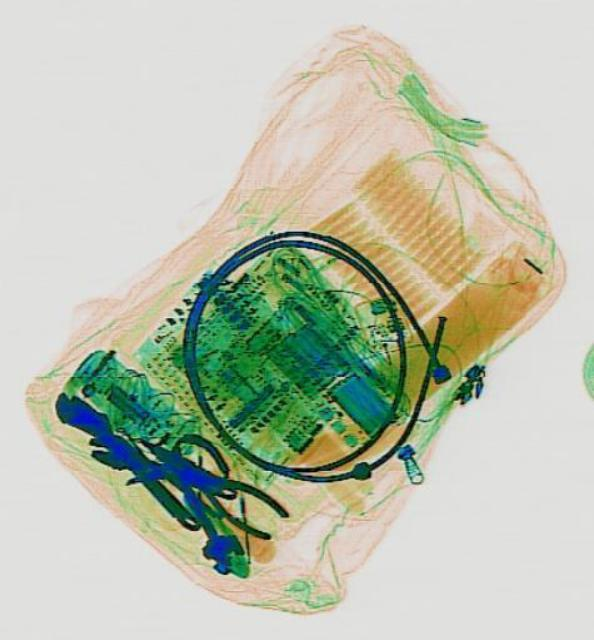Pliers: (147, 432, 290, 544)
Wrench: (42, 378, 207, 544), (84, 425, 243, 509)
